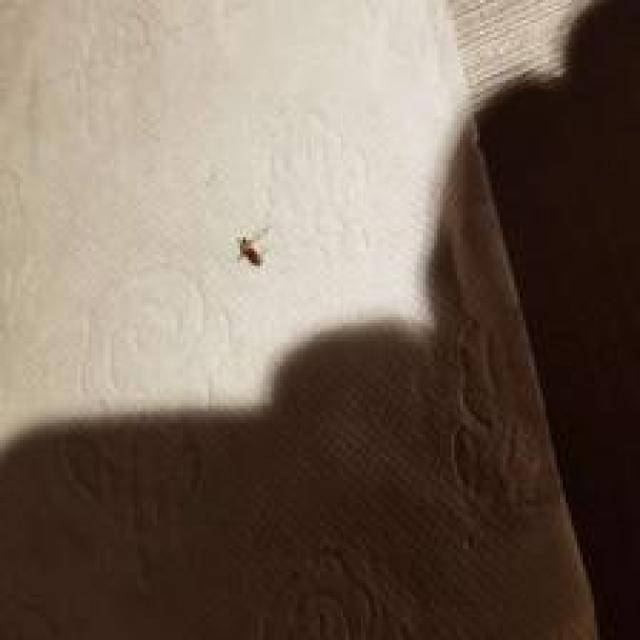Culex: (236, 234, 264, 266)
